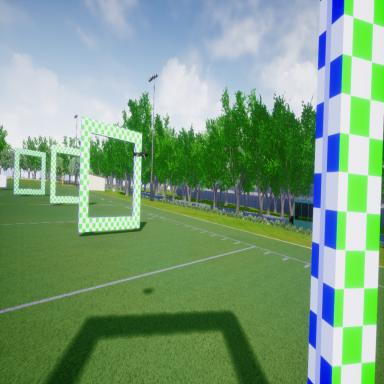gate: (76, 113, 144, 237), (12, 144, 48, 200)
